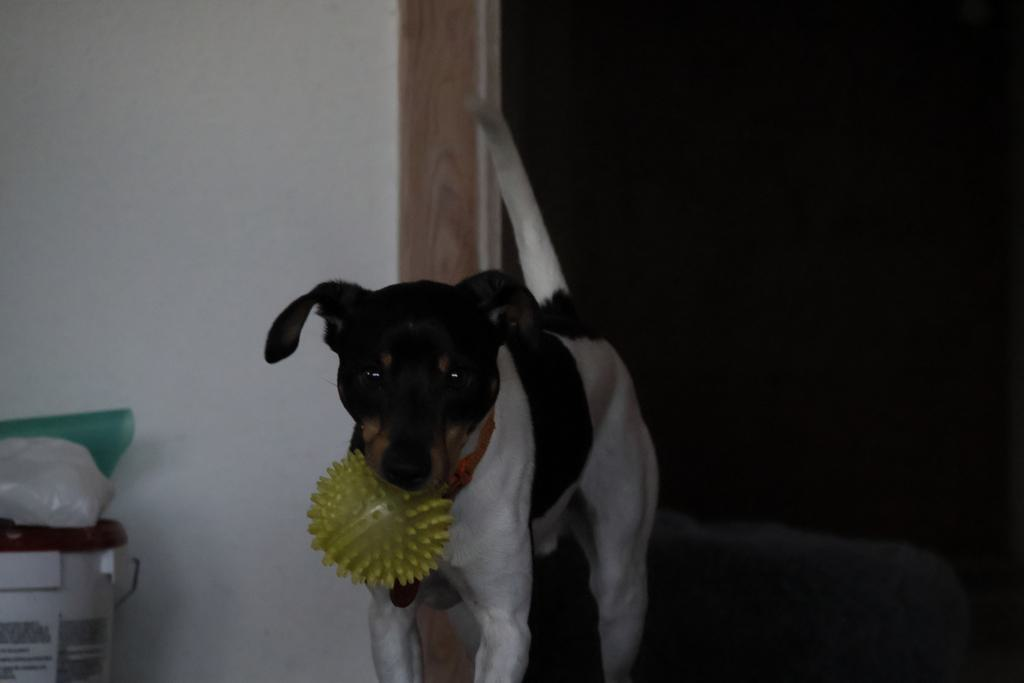Dog: (256, 83, 663, 683)
